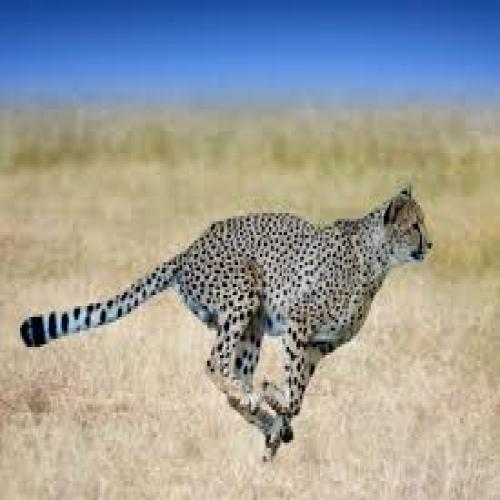cheetah-endangered: (17, 182, 432, 462)
